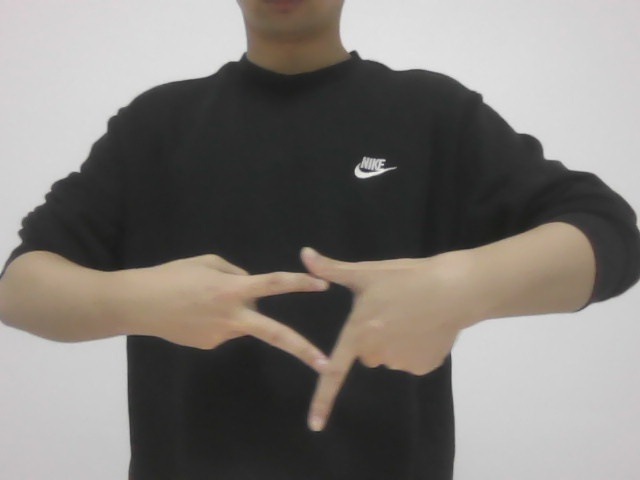introduce: (144, 224, 448, 432)
